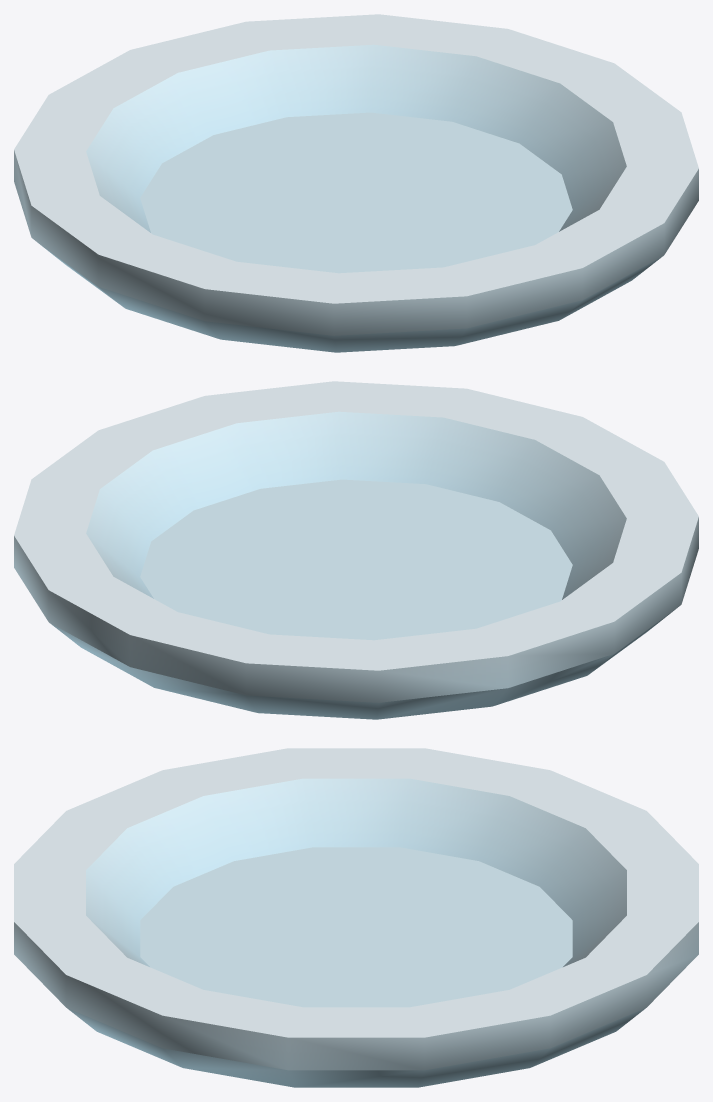
The model's file is plate_white.glb.
3 renders of one model, top to bottom at view 1: azimuth 30°, elevation 25°; view 2: azimuth 150°, elevation 25°; view 3: azimuth 270°, elevation 25°, orthographic.
Visible parts, largest first — view 1: plate_white; view 2: plate_white; view 3: plate_white.
Boxes of the visible parts, <box> form: plate_white: <box>14,14,698,352</box>; plate_white: <box>14,381,698,719</box>; plate_white: <box>14,748,698,1087</box>.
Bounding box in the file's own units: 0.95 × 0.1 × 0.95.
Materials: 1 (1 with a texture image).
